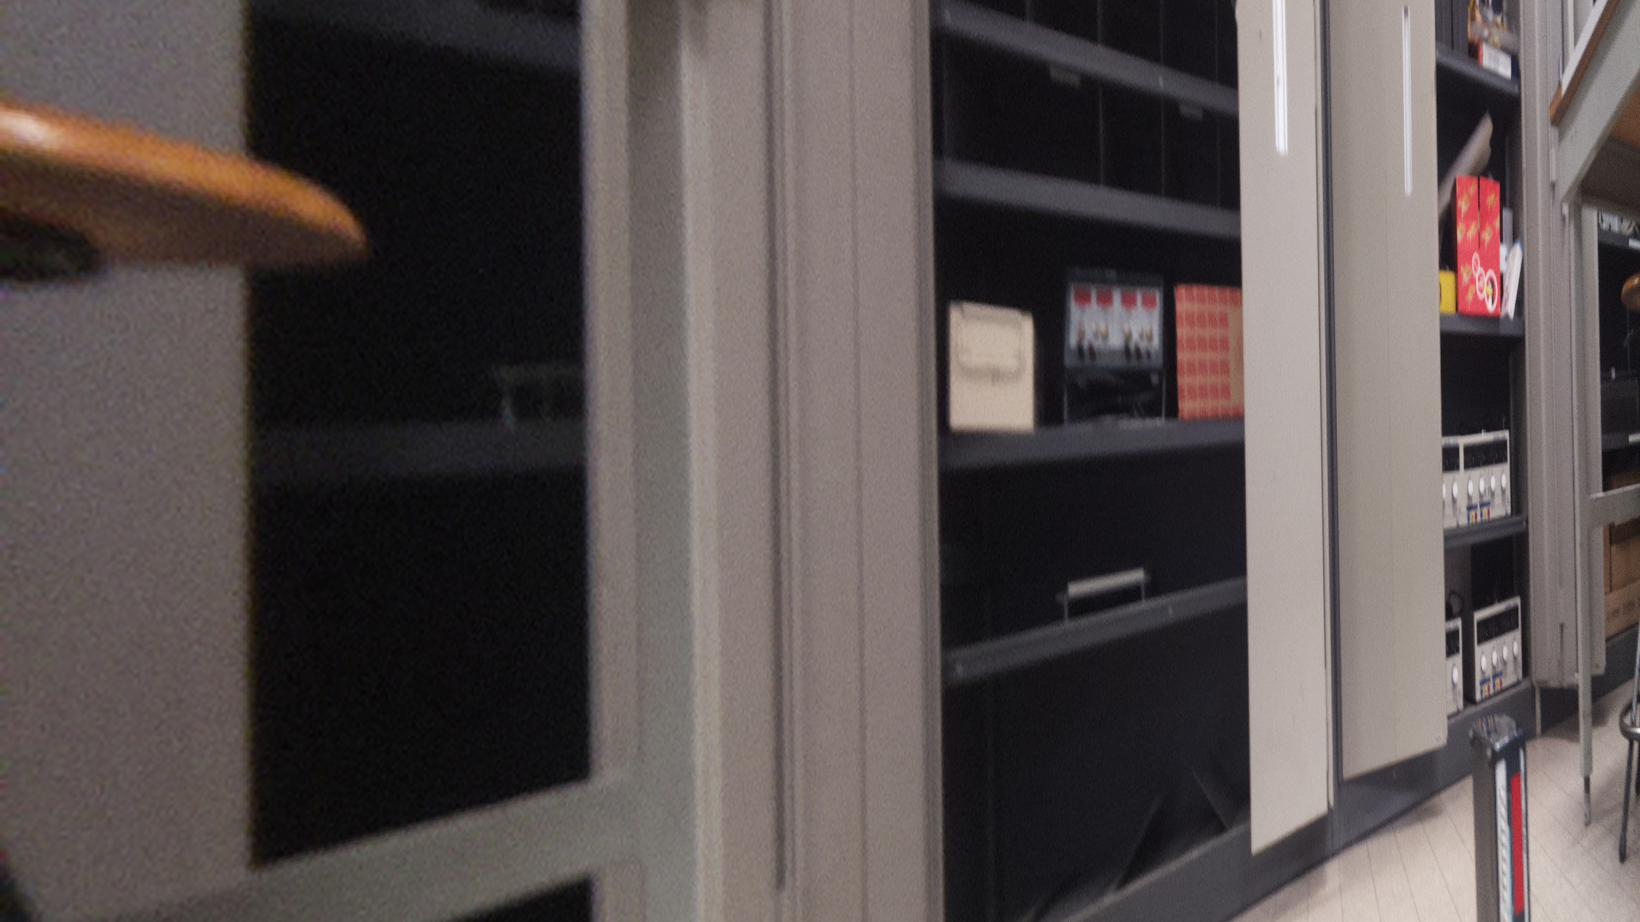medium: (1467, 713, 1534, 922)
